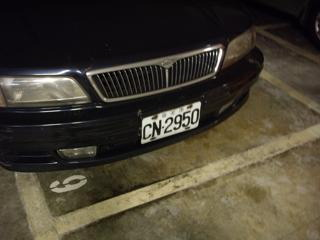plate: (139, 102, 202, 141)
